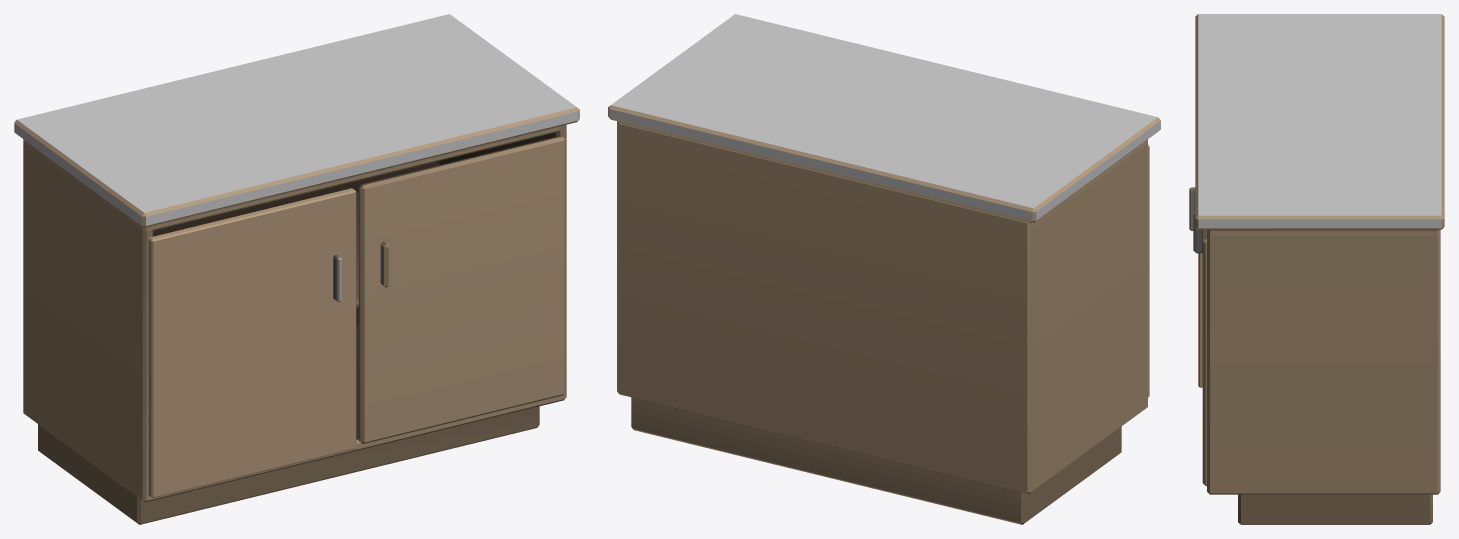
File: kitchen_cabinet.glb
The picture shows the model from 3 angles, left to right: view 1: azimuth 30°, elevation 25°; view 2: azimuth 150°, elevation 25°; view 3: azimuth 270°, elevation 25°; orthographic projection. The views are drawn at different scales.
Parts seen in each view (by area): view 1: kitchen_cabinet, kitchen_cabinet_lid; view 2: kitchen_cabinet; view 3: kitchen_cabinet, kitchen_cabinet_lid.
Boxes of the visible parts, x1,y1,x2,y2 form: kitchen_cabinet: [14, 14, 579, 524]; kitchen_cabinet_lid: [148, 188, 356, 498]; kitchen_cabinet: [608, 14, 1160, 524]; kitchen_cabinet: [1193, 14, 1444, 524]; kitchen_cabinet_lid: [1189, 187, 1202, 387].
Bounding box in the file's own units: 1.24 × 0.9 × 0.655.
